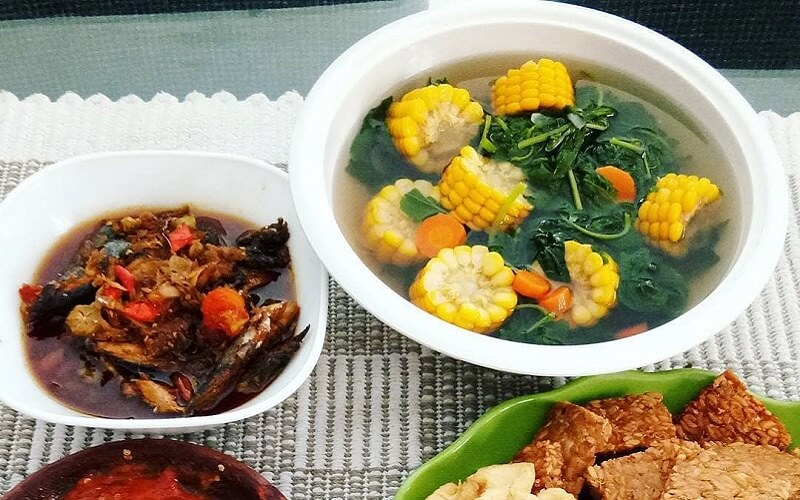Sayur Bayam: (334, 40, 714, 338)
